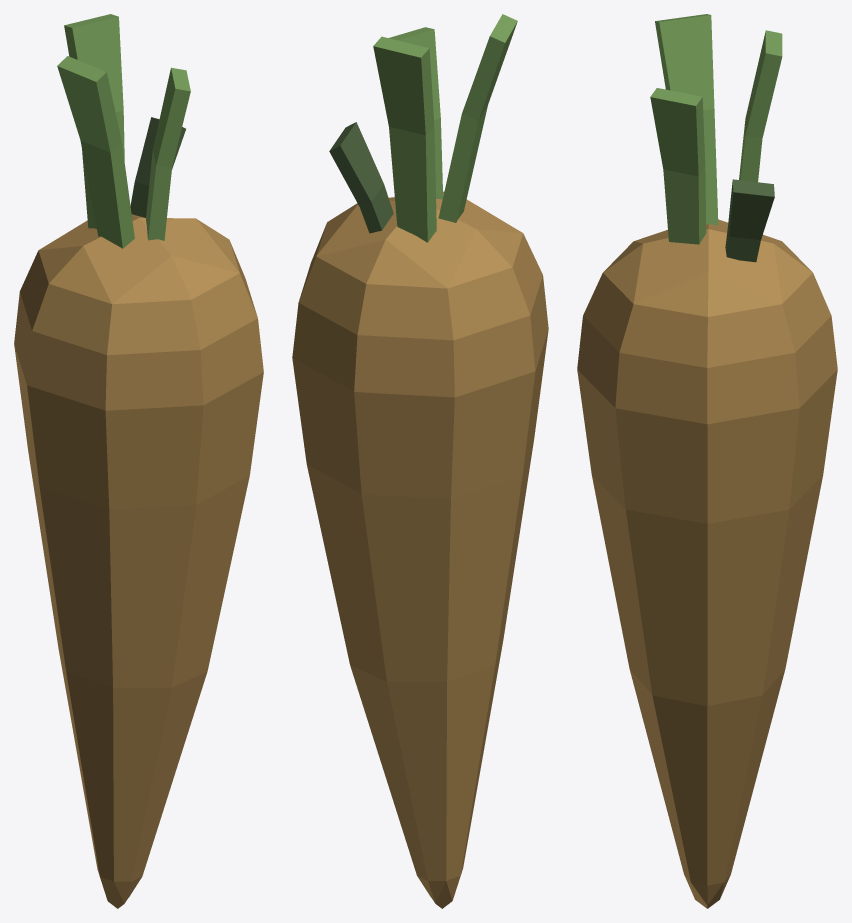
Rendered from carrot_crop.gltf.
3 views of the same model, side by side, from view 1: azimuth 30°, elevation 25°; view 2: azimuth 150°, elevation 25°; view 3: azimuth 270°, elevation 25° (orthographic). The views are drawn at different scales.
Parts seen in each view (by area): view 1: carrot_crop; view 2: carrot_crop; view 3: carrot_crop.
Boxes of the visible parts, x1,y1,x2,y2 form: carrot_crop: (14, 14, 263, 908); carrot_crop: (292, 14, 548, 908); carrot_crop: (577, 14, 837, 908).
Size of the model in its own units: 0.239 by 0.8809 by 0.239.
1 material, 1 textured.
